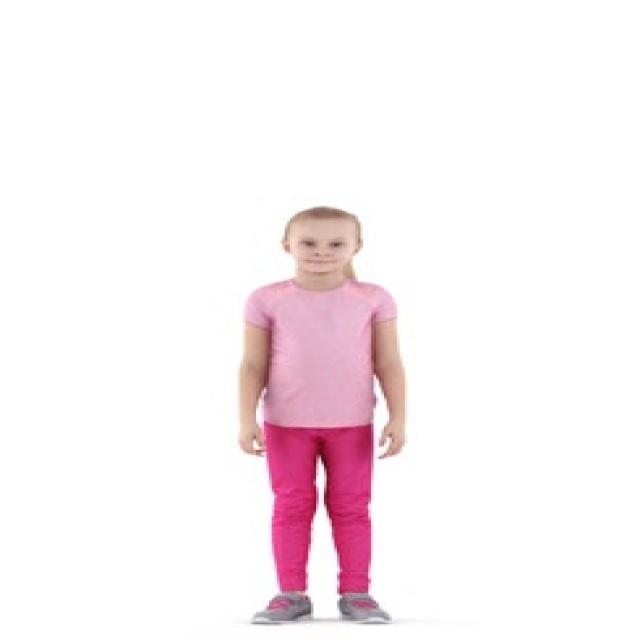standing: (230, 202, 414, 638)
